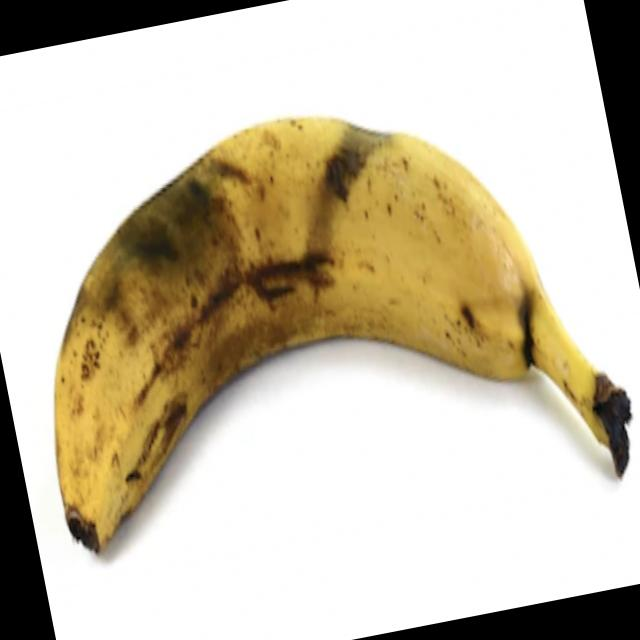rotten-banana: (0, 58, 615, 566)
